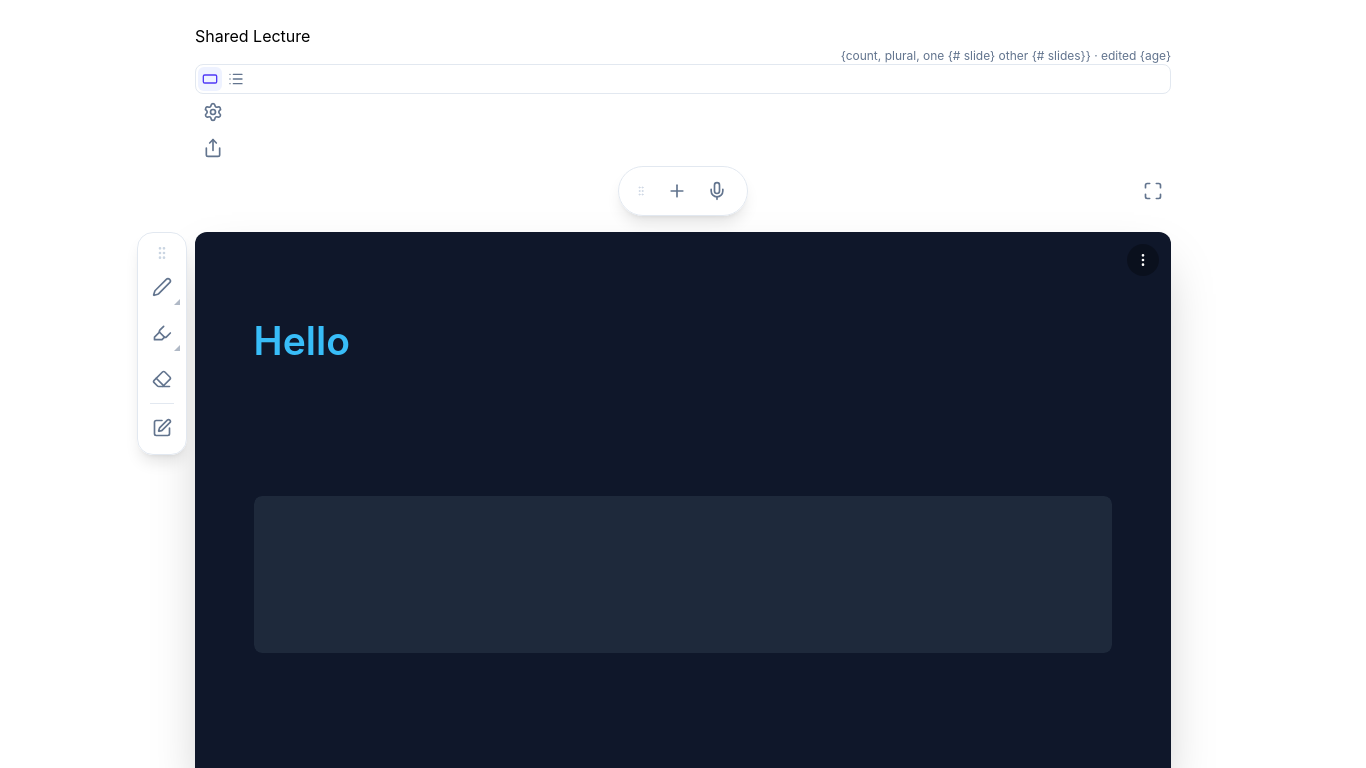
it: DeckViewerPage › opens the privacy & sharing settings when Share is clicked
The width and height of the screenshot is (1366, 768).
Click the button named "Share deck" at point(213, 148), box [195,130,231,166]
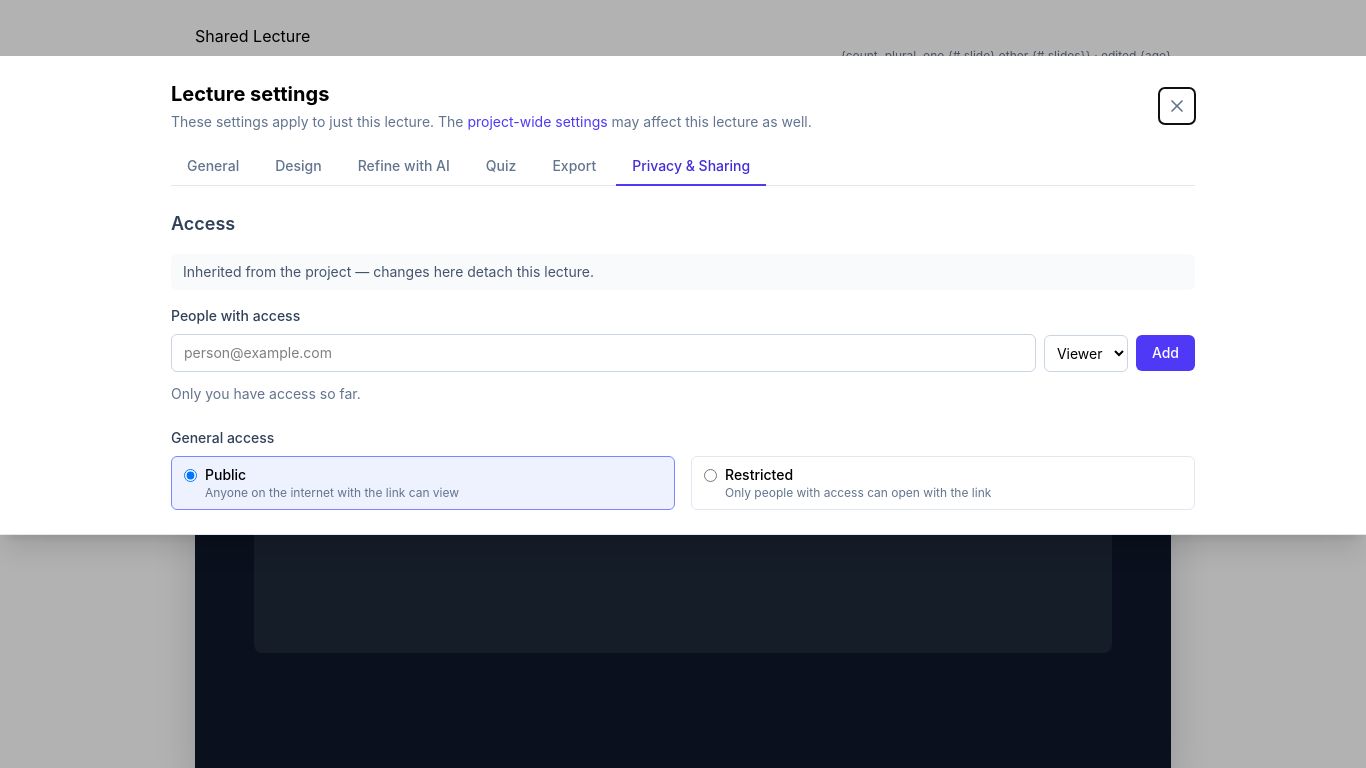
Expected: the dialog "Lecture settings" is shown
